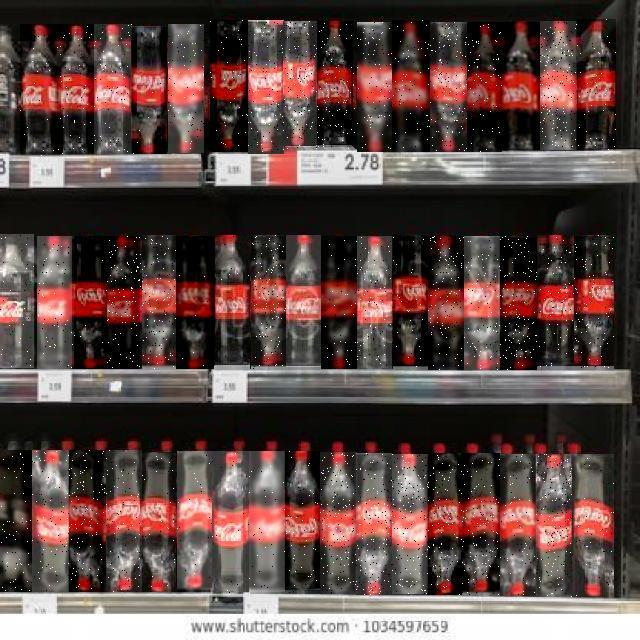Drinks: (572, 454, 614, 597), (212, 451, 250, 594), (32, 451, 70, 593), (462, 454, 500, 596), (575, 236, 615, 370), (20, 24, 60, 156), (320, 452, 357, 594), (500, 455, 537, 597), (576, 19, 616, 150), (176, 236, 215, 369), (536, 454, 572, 597), (70, 451, 106, 593), (106, 451, 142, 593), (249, 452, 285, 594), (285, 452, 321, 594), (356, 453, 392, 595), (141, 453, 177, 593), (392, 454, 428, 594), (210, 20, 248, 152), (393, 20, 431, 152), (427, 453, 462, 595), (464, 236, 501, 370), (500, 236, 537, 370), (537, 236, 574, 370), (94, 24, 132, 154), (177, 452, 212, 592), (502, 22, 540, 150), (248, 20, 284, 154), (215, 236, 251, 370), (286, 236, 322, 370), (393, 236, 429, 370), (428, 236, 464, 370), (430, 22, 467, 152), (38, 236, 74, 369), (73, 236, 109, 369), (321, 236, 357, 369), (540, 21, 577, 150), (251, 236, 286, 370), (357, 236, 392, 369), (168, 24, 204, 153), (131, 26, 167, 154), (284, 22, 320, 150), (320, 22, 356, 150), (0, 235, 34, 369), (142, 236, 176, 370), (357, 22, 392, 152), (467, 22, 502, 152), (0, 450, 32, 592), (108, 236, 142, 369), (60, 24, 94, 154)
